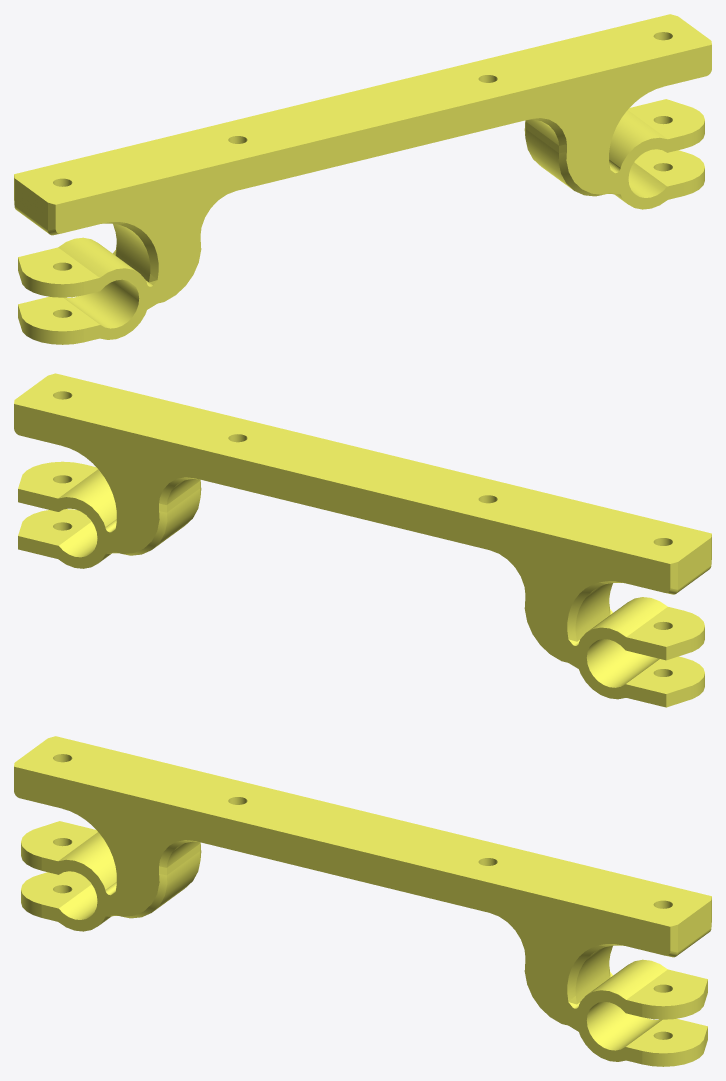
The model's file is Lower Rod Clamp.obj.
3 views of the same model, one above another, from view 1: azimuth 30°, elevation 25°; view 2: azimuth 150°, elevation 25°; view 3: azimuth 330°, elevation 25° (orthographic).
Parts seen in each view (by area): view 1: Mesh1 Model; view 2: Mesh1 Model; view 3: Mesh1 Model.
Part boxes in pixels (x1=…): Mesh1 Model: x1=14, y1=14, x2=711, y2=344; Mesh1 Model: x1=14, y1=373, x2=711, y2=707; Mesh1 Model: x1=14, y1=736, x2=711, y2=1066.
Size of the model in its own units: 186 by 39.49 by 20.
